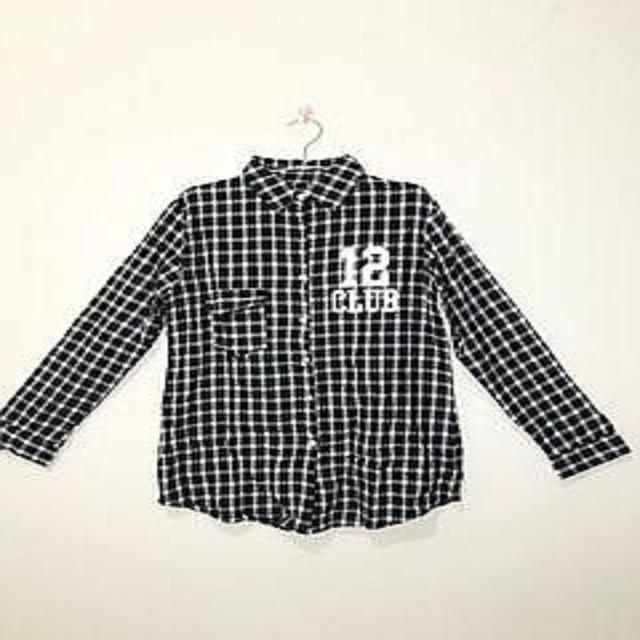SHIRT: (14, 153, 640, 540)
